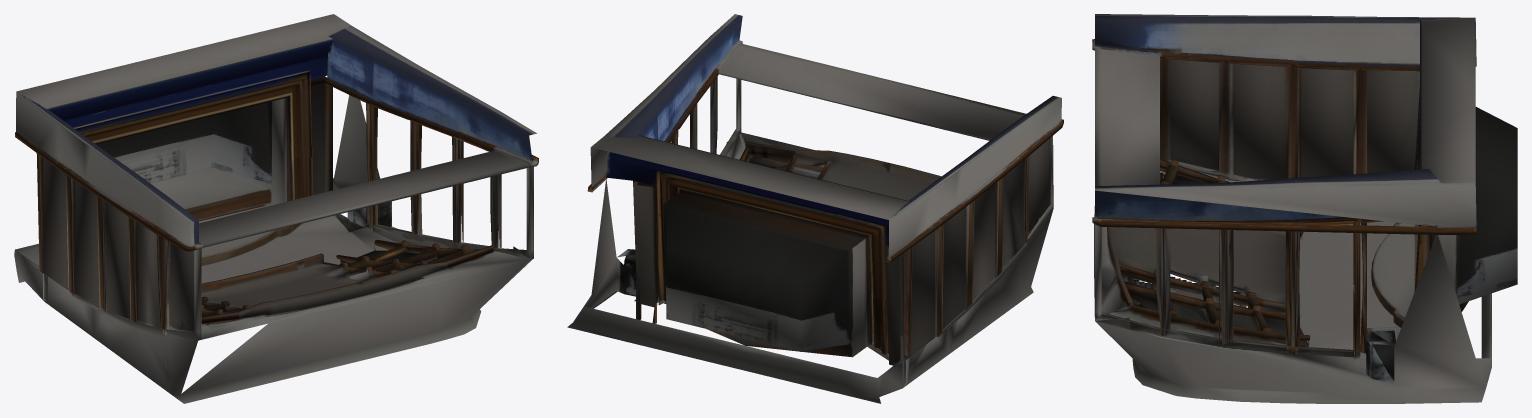
File: midtown-grand-shell.glb
3 views of the same model, side by side, from view 1: azimuth 30°, elevation 25°; view 2: azimuth 150°, elevation 25°; view 3: azimuth 270°, elevation 25° (orthographic). The views are drawn at different scales.
Parts seen in each view (by area): view 1: Midtown Grand Shell; view 2: Midtown Grand Shell; view 3: Midtown Grand Shell.
Boxes of the visible parts, left/top/right/bottom form: Midtown Grand Shell: left=14, top=14, right=538, bottom=403; Midtown Grand Shell: left=567, top=14, right=1063, bottom=403; Midtown Grand Shell: left=1092, top=14, right=1517, bottom=403.
Size of the model in its own units: 0.998 by 0.541 by 0.9707.
Materials: 1 (1 with a texture image).
